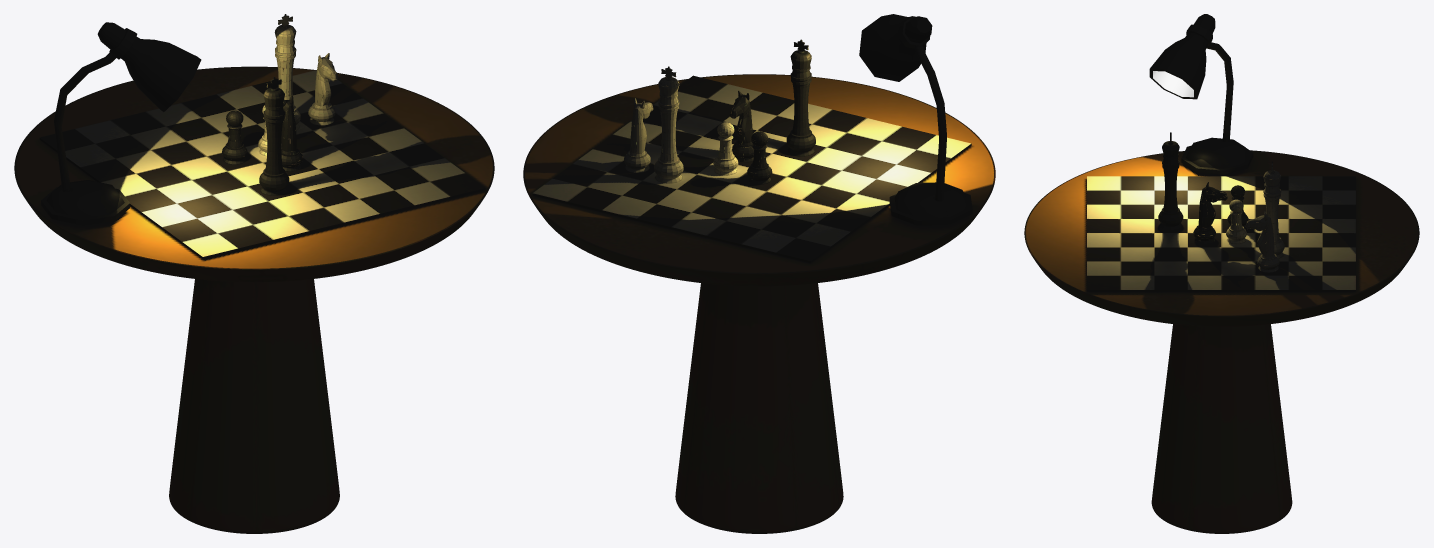
File: chess.glb
The picture shows the model from 3 angles, left to right: view 1: azimuth 30°, elevation 25°; view 2: azimuth 150°, elevation 25°; view 3: azimuth 270°, elevation 25°; orthographic projection. The views are drawn at different scales.
Parts seen in each view (by area): view 1: Siena Table_Baked, board_Baked, Light_Desk_Baked, king.000_Baked, king.001_Baked, Knight.002_Baked, Knight.003_Baked, RUYLOPEZPAWNBLACK_Baked; view 2: Siena Table_Baked, board_Baked, Light_Desk_Baked, king.001_Baked, king.000_Baked, Knight.002_Baked, Knight.003_Baked, RUYLOPEZPAWNBLACK_Baked, RUYLOPEZPAWNWHITE_Baked; view 3: Siena Table_Baked, board_Baked, Light_Desk_Baked, king.000_Baked, Knight.003_Baked, Knight.002_Baked, king.001_Baked, RUYLOPEZPAWNWHITE_Baked.
Boxes of the visible parts, <box> form: Siena Table_Baked: <box>14,66,494,533</box>; board_Baked: <box>39,70,485,258</box>; Light_Desk_Baked: <box>41,22,201,225</box>; king.000_Baked: <box>259,77,289,195</box>; king.001_Baked: <box>274,14,300,130</box>; Knight.002_Baked: <box>308,53,338,125</box>; Knight.003_Baked: <box>281,95,302,171</box>; RUYLOPEZPAWNBLACK_Baked: <box>222,110,247,164</box>; Siena Table_Baked: <box>523,74,995,533</box>; board_Baked: <box>532,75,971,263</box>; Light_Desk_Baked: <box>859,14,972,225</box>; king.001_Baked: <box>654,66,683,183</box>; king.000_Baked: <box>786,39,815,156</box>; Knight.002_Baked: <box>624,98,653,172</box>; Knight.003_Baked: <box>729,90,753,161</box>; RUYLOPEZPAWNBLACK_Baked: <box>747,131,772,184</box>; RUYLOPEZPAWNWHITE_Baked: <box>713,122,738,174</box>; Siena Table_Baked: <box>1024,150,1419,533</box>; board_Baked: <box>1087,176,1355,291</box>; Light_Desk_Baked: <box>1149,14,1253,174</box>; king.000_Baked: <box>1158,132,1183,229</box>; Knight.003_Baked: <box>1193,182,1227,243</box>; Knight.002_Baked: <box>1245,210,1279,272</box>; king.001_Baked: <box>1261,161,1284,258</box>; RUYLOPEZPAWNWHITE_Baked: <box>1226,199,1246,243</box>.
Size of the model in its own units: 1.36 by 1.62 by 1.35.
2 materials, 2 textured.
